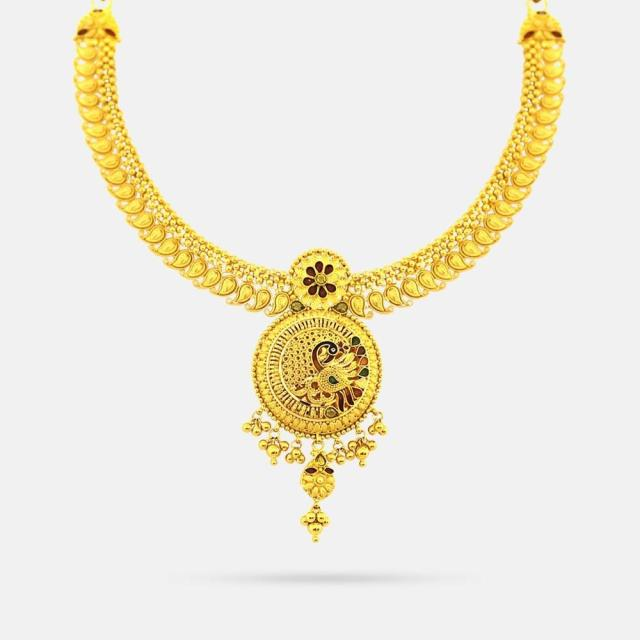missing gem: (316, 274, 327, 284), (356, 379, 368, 388), (328, 274, 338, 281)
